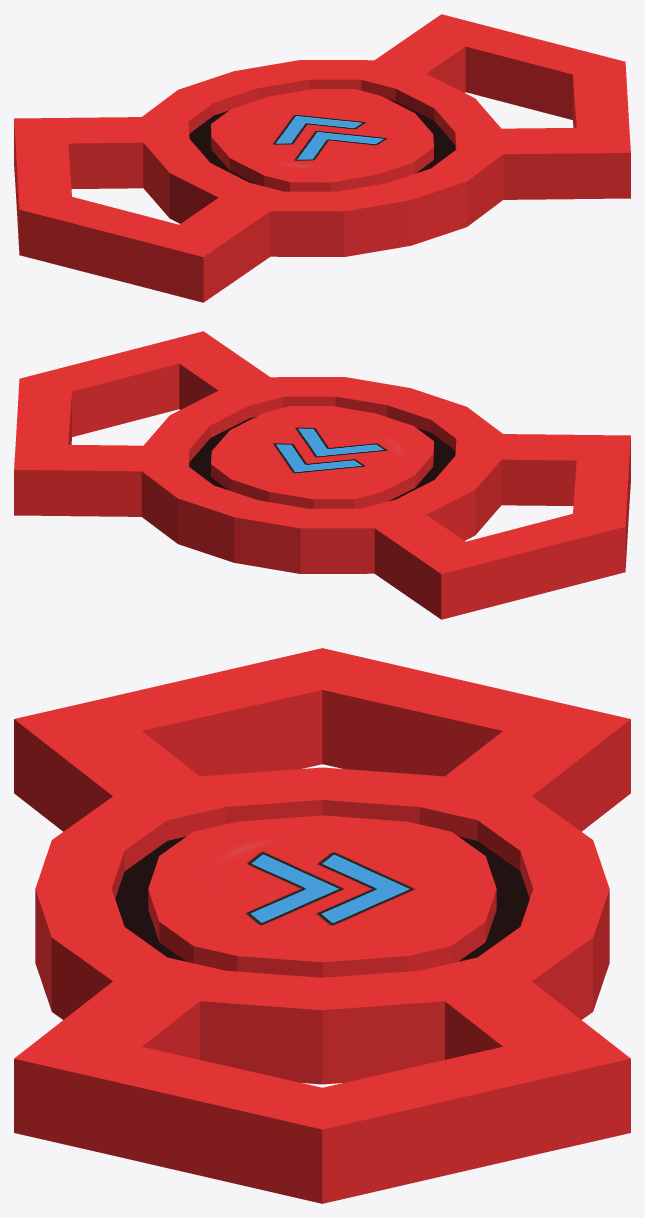
The model's file is SlowDown.fbx.
The picture shows the model from 3 angles, top to bottom: view 1: azimuth 30°, elevation 25°; view 2: azimuth 150°, elevation 25°; view 3: azimuth 270°, elevation 25°; orthographic projection. The views are drawn at different scales.
Parts seen in each view (by area): view 1: Cube; view 2: Cube; view 3: Cube.
Part boxes in pixels (left/top/right/bottom): Cube: left=14, top=14, right=630, bottom=302; Cube: left=14, top=331, right=630, bottom=619; Cube: left=14, top=648, right=630, bottom=1203.
Bounding box in the file's own units: 397 × 28.54 × 215.
